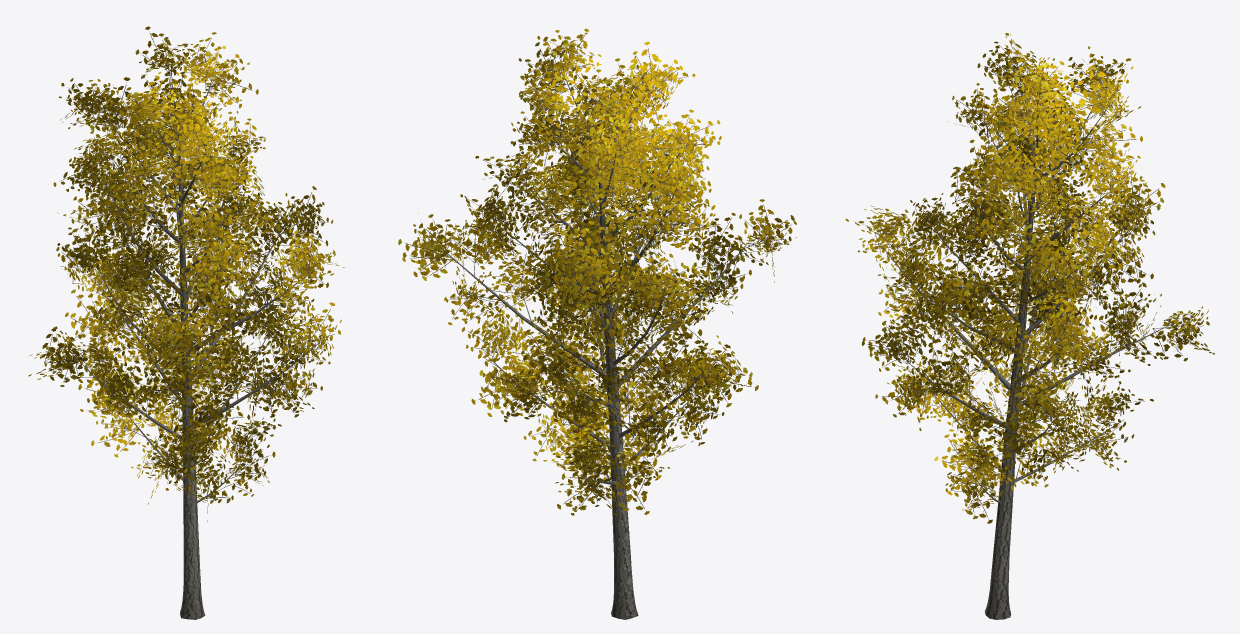
The model's file is tree_ginkgo.glb.
The picture shows the model from 3 angles, left to right: view 1: azimuth 30°, elevation 25°; view 2: azimuth 150°, elevation 25°; view 3: azimuth 270°, elevation 25°; orthographic projection. The views are drawn at different scales.
Visible parts, largest first — view 1: plant; view 2: plant; view 3: plant.
Part boxes in pixels (x1,y1,x2,y2): plant: (28, 26, 344, 619); plant: (398, 28, 796, 619); plant: (845, 33, 1214, 619).
Size of the model in its own units: 10.67 by 17.22 by 10.4.
2 materials, 2 textured.
